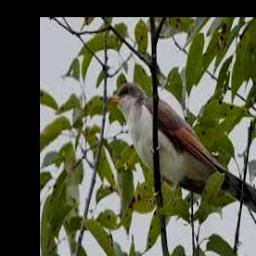Cuckoo: (103, 82, 256, 222)
